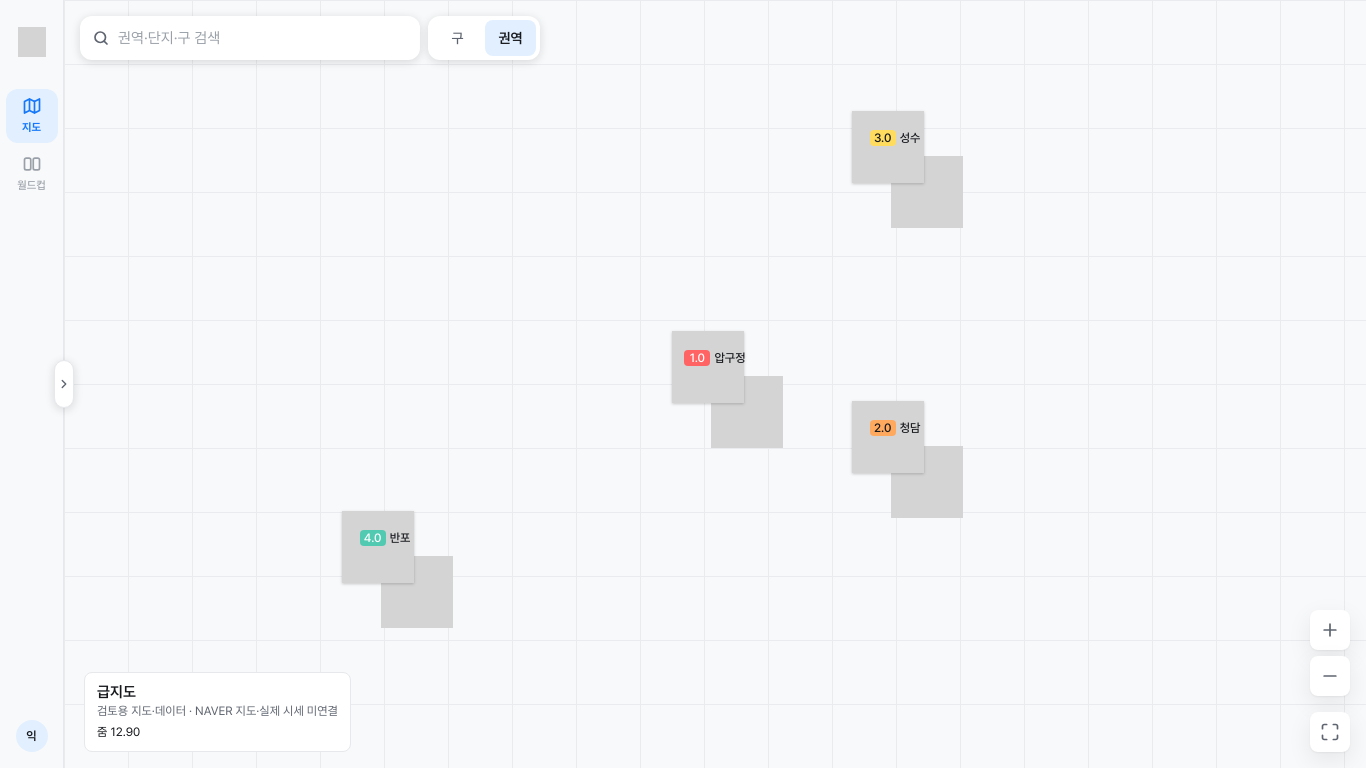
aborts pending detail on unmount and survives strict effect replay
The width and height of the screenshot is (1366, 768).
Click the button with aria-label "권역 압구정": x=715, y=358 left=672, top=331, right=758, bottom=384
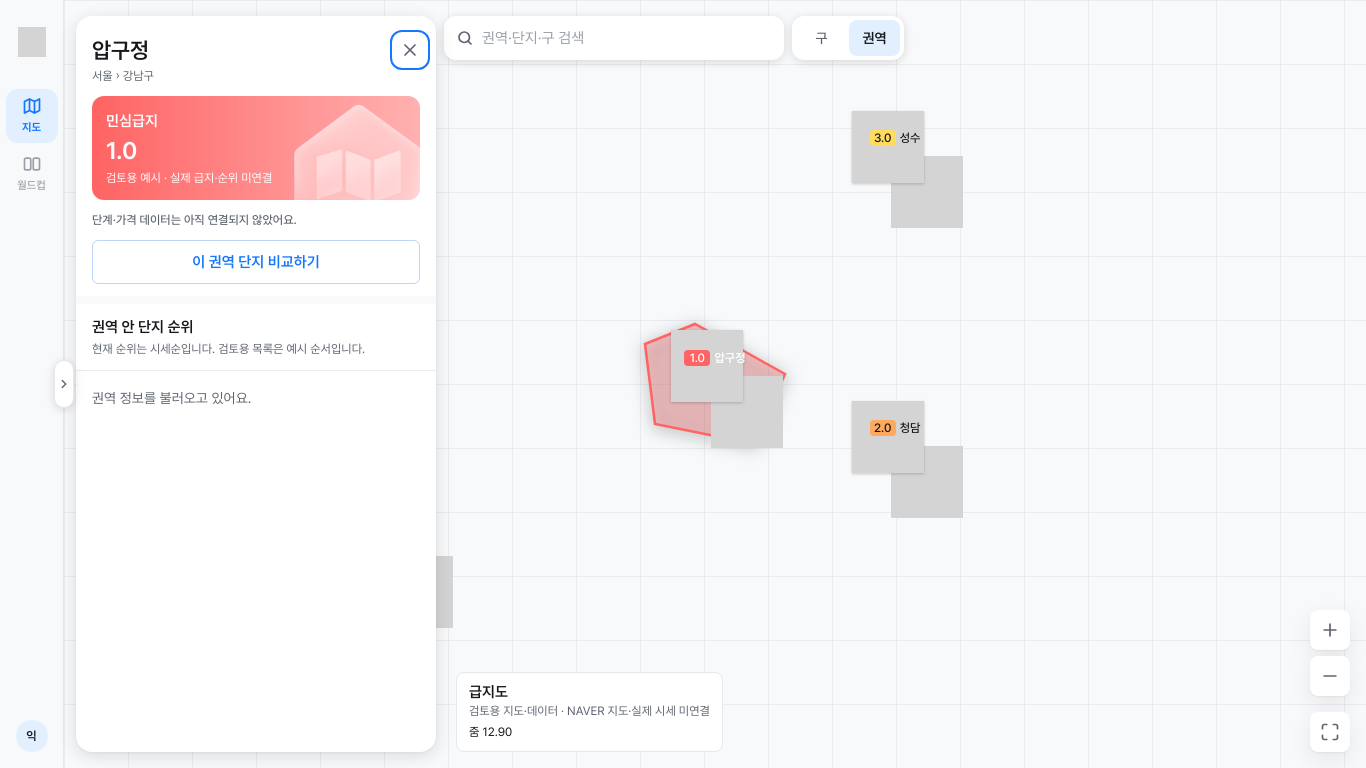
Expected: the heading "압구정" is shown, left=92, top=37, right=149, bottom=63
